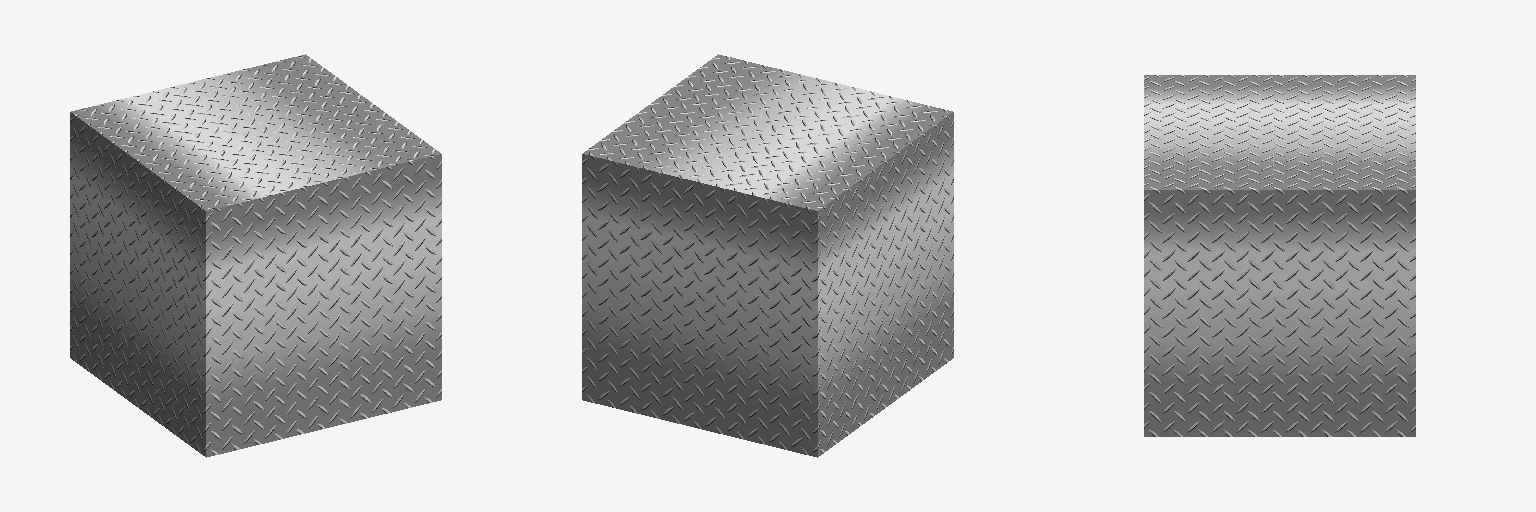
3 renders of one model, left to right at view 1: azimuth 30°, elevation 25°; view 2: azimuth 150°, elevation 25°; view 3: azimuth 270°, elevation 25°, orthographic.
Visible parts, largest first — view 1: Cube; view 2: Cube; view 3: Cube.
Part boxes in pixels (x1,y1,x2,y2): Cube: (70,54,441,457); Cube: (582,54,953,457); Cube: (1144,75,1415,436).
Bounding box in the file's own units: 1 × 1 × 1.
1 materials, 1 textured.